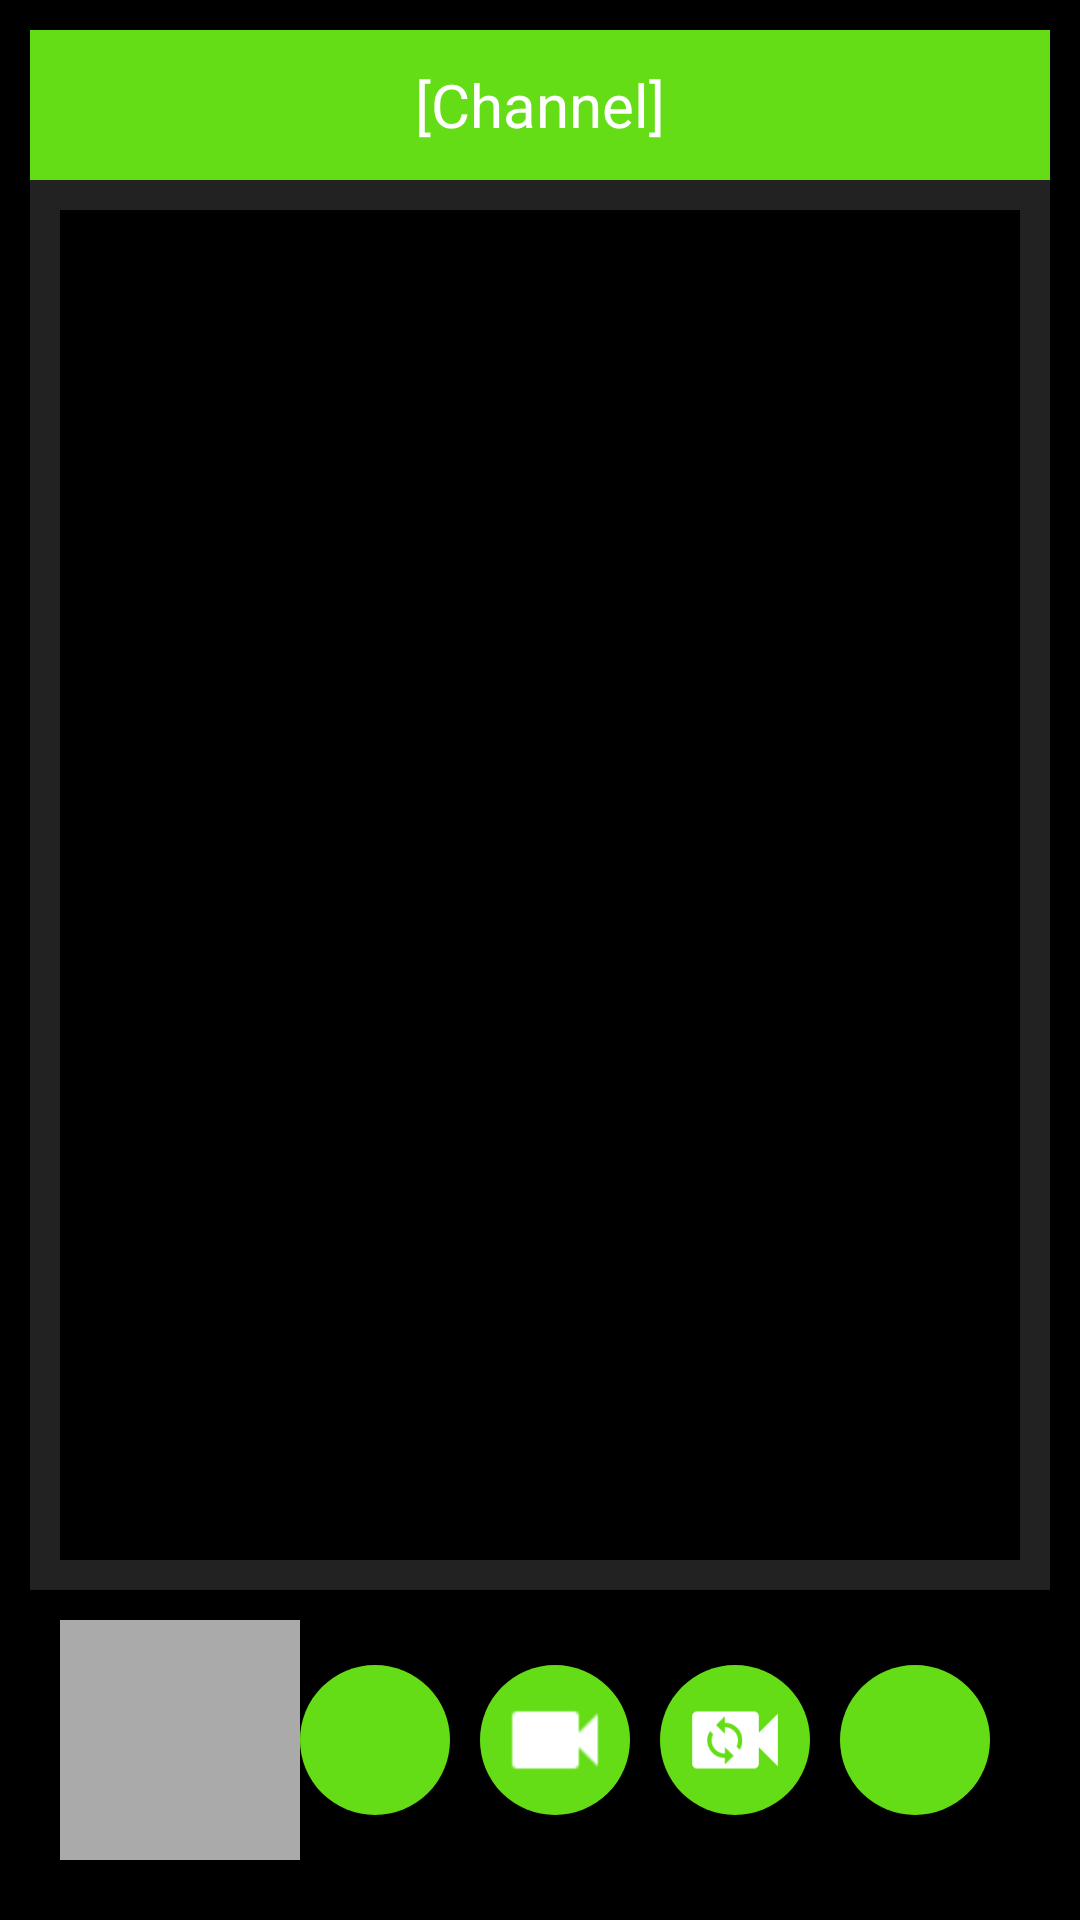

Screen size 1080×1920. Icon name, then its box in pixels as {"left": x1, "top": y1, "right": x2, "bottom": y2}:
videocam on: {"left": 480, "top": 1665, "right": 630, "bottom": 1815}
